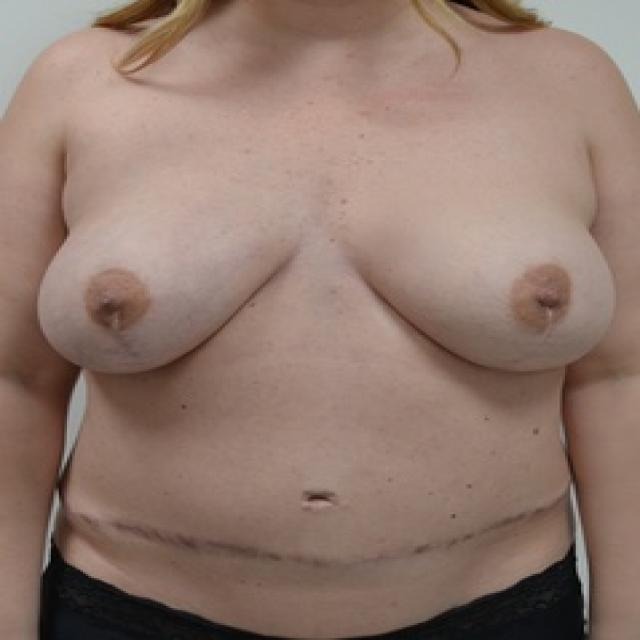Seno ileso: (322, 132, 628, 394), (28, 132, 312, 398)
